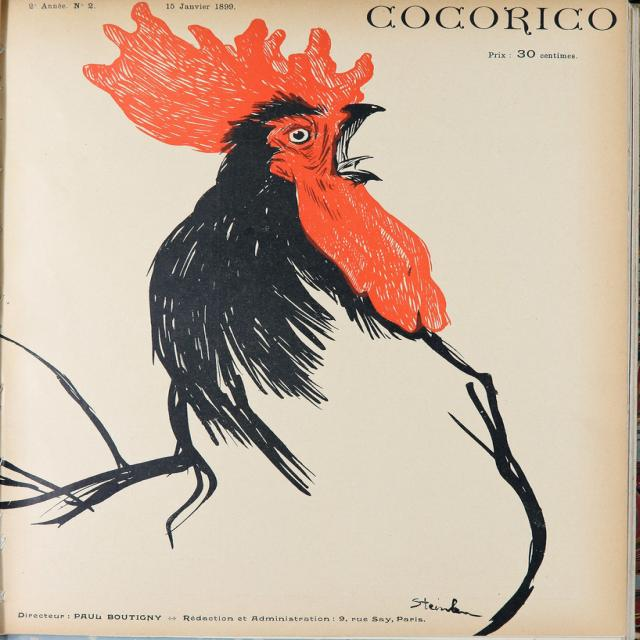Chicken: (66, 2, 530, 558)
